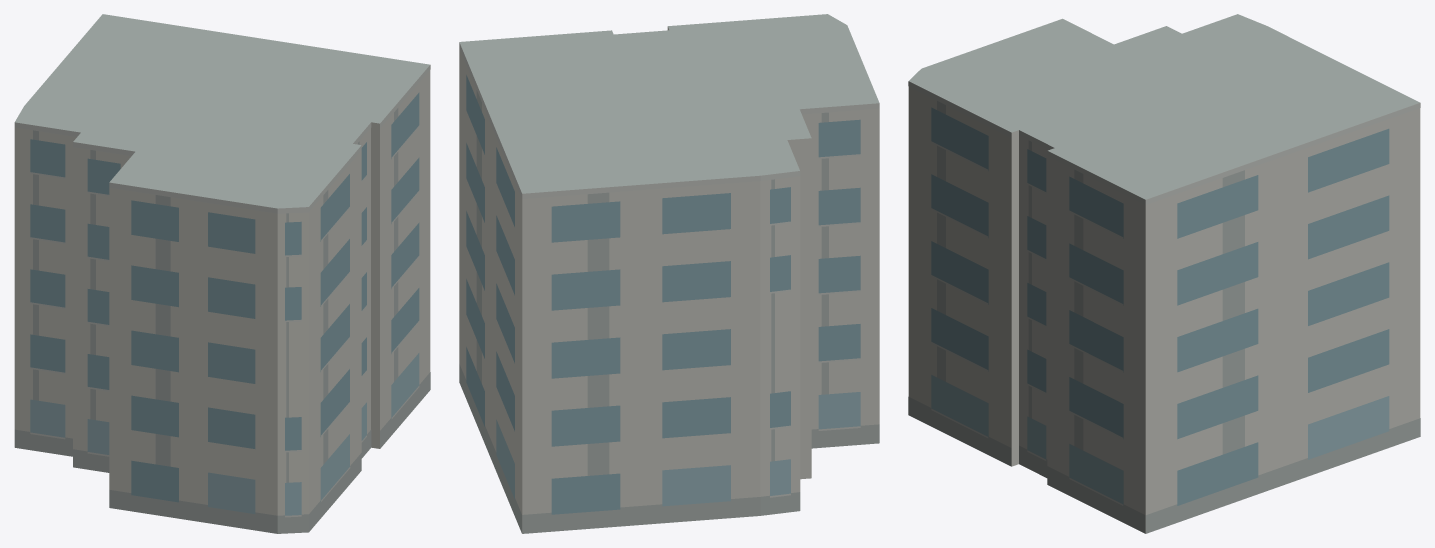
Rendered from survey-upis-32986051.glb.
3 renders of one model, left to right at view 1: azimuth 30°, elevation 25°; view 2: azimuth 150°, elevation 25°; view 3: azimuth 270°, elevation 25°, orthographic. The views are drawn at different scales.
Visible parts, largest first — view 1: survey-upis-32986051.tmp; view 2: survey-upis-32986051.tmp; view 3: survey-upis-32986051.tmp.
Part boxes in pixels (<box>): survey-upis-32986051.tmp: <box>14,14,430,533</box>; survey-upis-32986051.tmp: <box>459,14,879,533</box>; survey-upis-32986051.tmp: <box>908,14,1420,533</box>.
Size of the model in its own units: 18.2 by 15.25 by 21.19.
